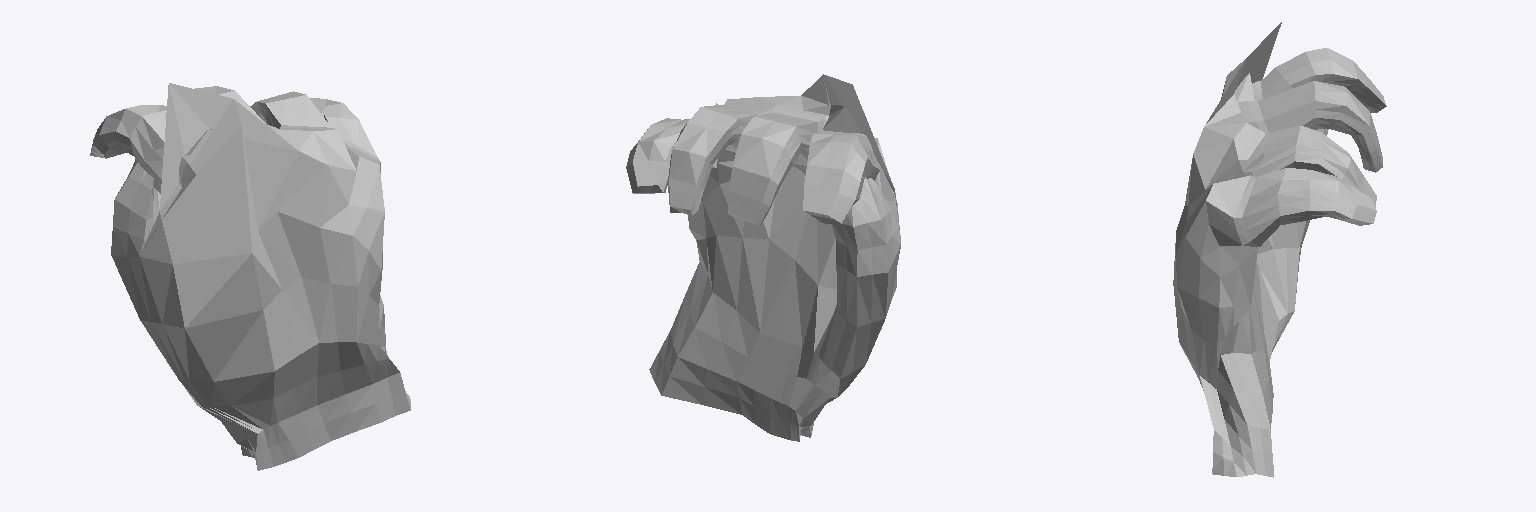
Rendered from hand_sub2_triang0054.obj.
3 renders of one model, left to right at view 1: azimuth 30°, elevation 25°; view 2: azimuth 150°, elevation 25°; view 3: azimuth 270°, elevation 25°, orthographic.
Parts seen in each view (by area): view 1: Hand; view 2: Hand; view 3: Hand.
Boxes of the visible parts, <box> form: Hand: <box>90,83,410,470</box>; Hand: <box>626,74,900,441</box>; Hand: <box>1173,22,1386,477</box>.
Size of the model in its own units: 2.76 by 3.85 by 1.92.